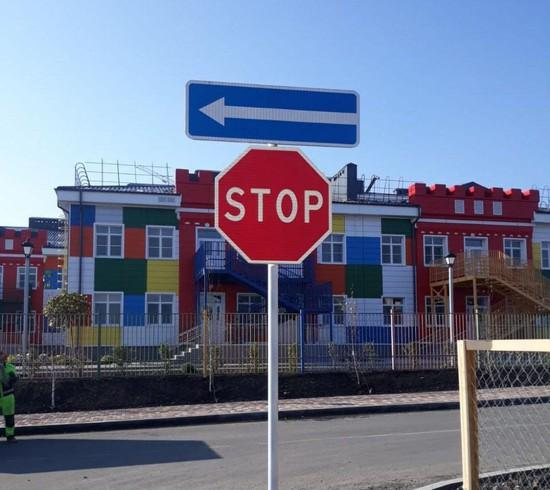Pole: (267, 269, 279, 488)
Sign: (215, 146, 332, 264)
